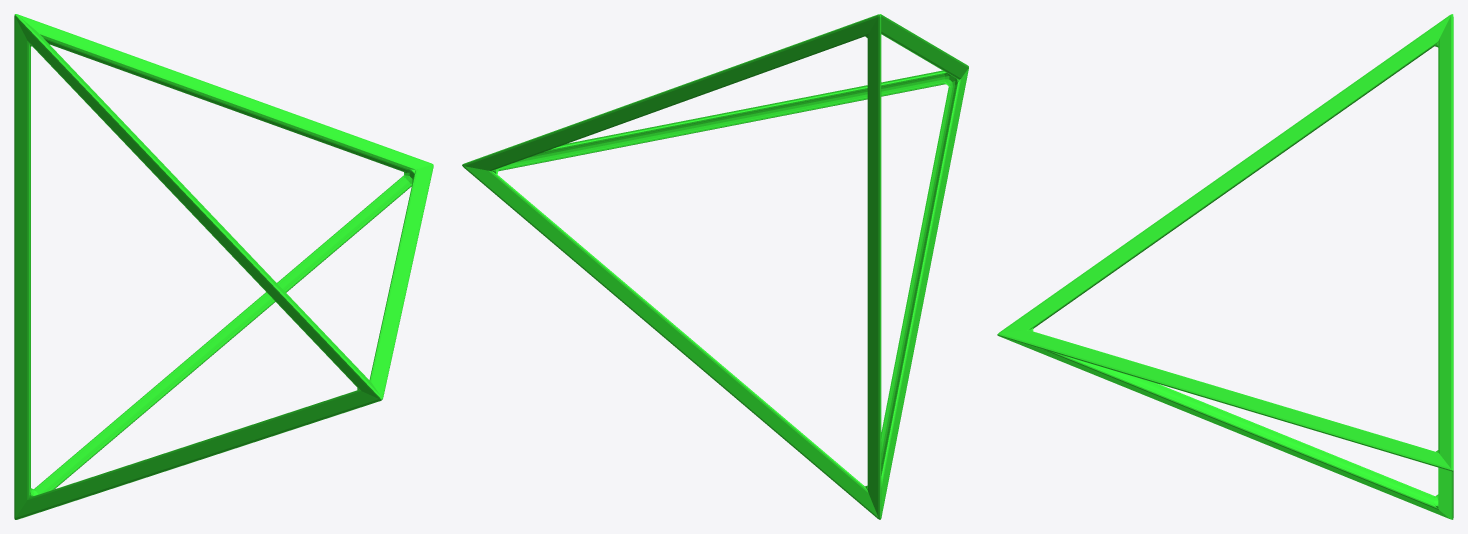
Rendered from Wiretetrahedron.obj.
3 renders of one model, left to right at view 1: azimuth 30°, elevation 25°; view 2: azimuth 150°, elevation 25°; view 3: azimuth 270°, elevation 25°, orthographic.
Parts seen in each view (by area): view 1: Wiretetrahedron; view 2: Wiretetrahedron; view 3: Wiretetrahedron.
Part boxes in pixels (<box>): Wiretetrahedron: <box>14,14,433,519</box>; Wiretetrahedron: <box>462,14,968,519</box>; Wiretetrahedron: <box>997,14,1453,519</box>.
Bounding box in the file's own units: 0.8692 × 1 × 0.8195.
